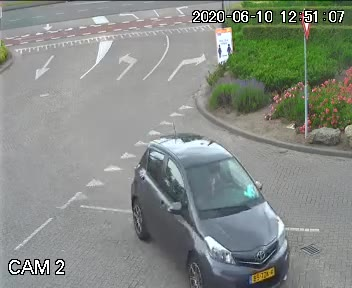car: (118, 124, 302, 288)
